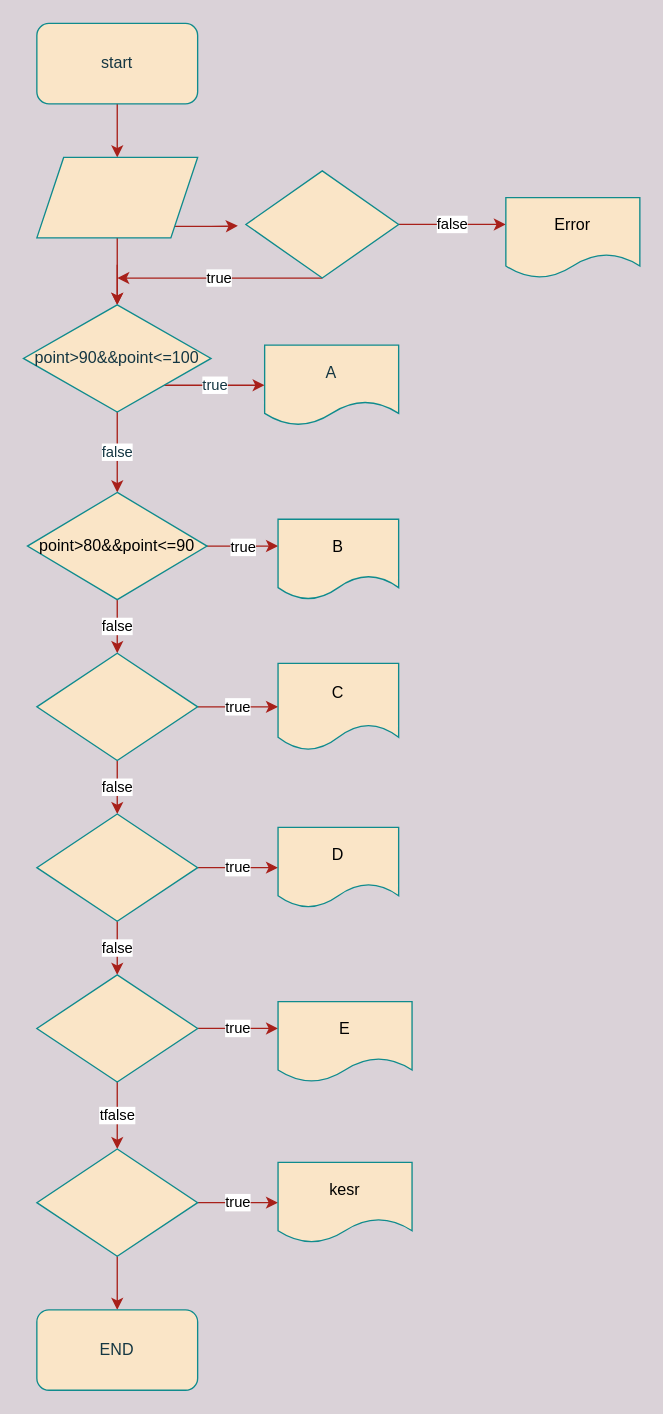
This 663x1414 diagram has some shape labels left out. Each missing label, with the box of its shape:
point: (36, 156, 198, 238)
point<=50: (36, 1148, 198, 1256)
point>0&&point<=100: (245, 170, 399, 278)
point>50&&point<=60: (36, 974, 198, 1082)
point>70&&point<=80: (36, 652, 198, 760)
pooint>60&&point<=70: (36, 813, 198, 921)
